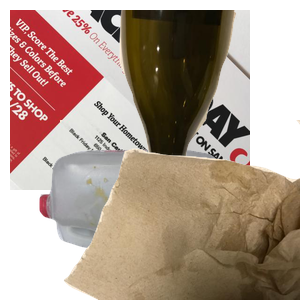glass: (117, 10, 300, 190)
paper: (10, 10, 250, 190)
plastic: (37, 147, 254, 300)
trash: (60, 120, 300, 300)
